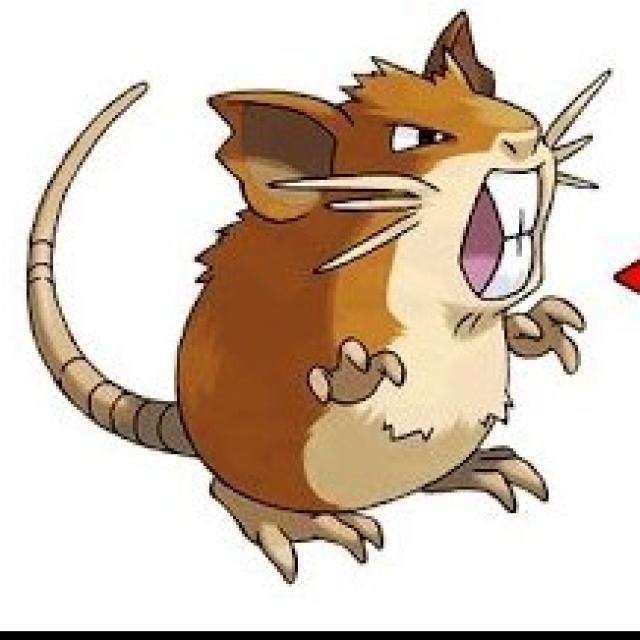Raticate: (144, 10, 594, 573)
